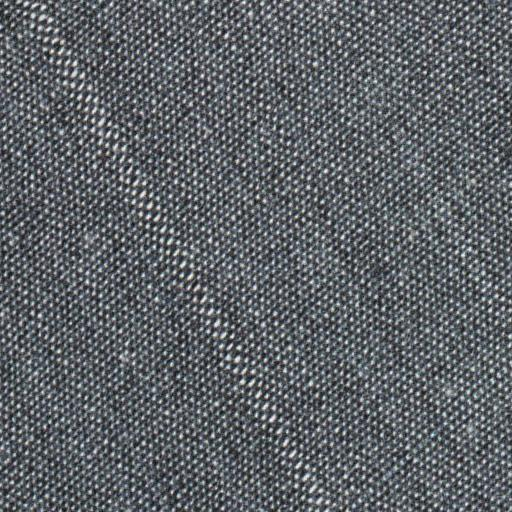slub: (10, 0, 333, 510)
